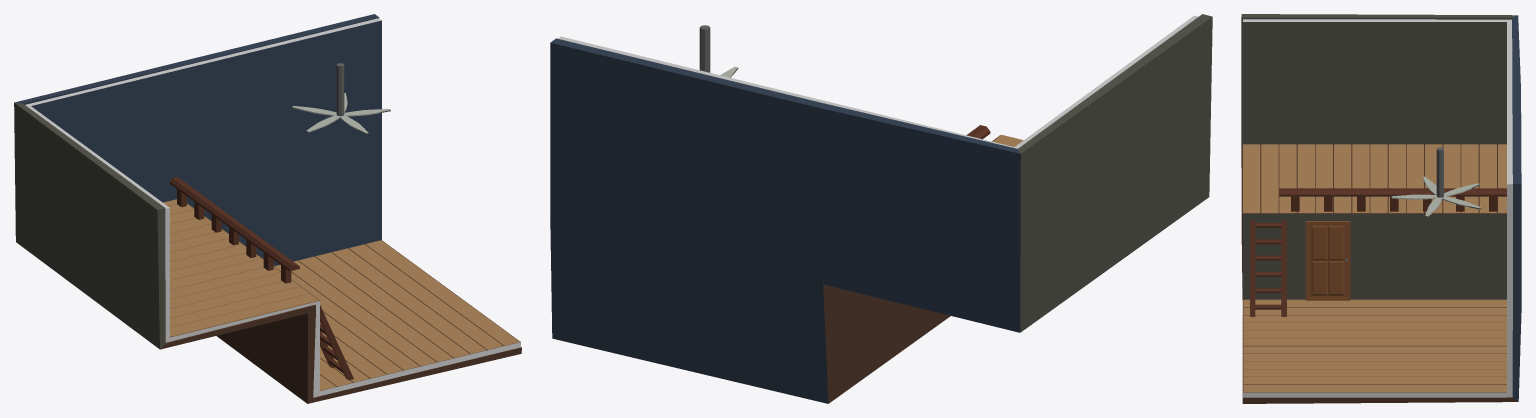
The model's file is Room.fbx.
The picture shows the model from 3 angles, left to right: view 1: azimuth 30°, elevation 25°; view 2: azimuth 150°, elevation 25°; view 3: azimuth 270°, elevation 25°; orthographic projection. The views are drawn at different scales.
Parts seen in each view (by area): view 1: Room; view 2: Room; view 3: Room.
Part boxes in pixels (box(x1,y1,x2,y2)): Room: box(14, 14, 521, 403); Room: box(550, 14, 1212, 403); Room: box(1241, 14, 1521, 403).
Bounding box in the file's own units: 362 × 221 × 254.
